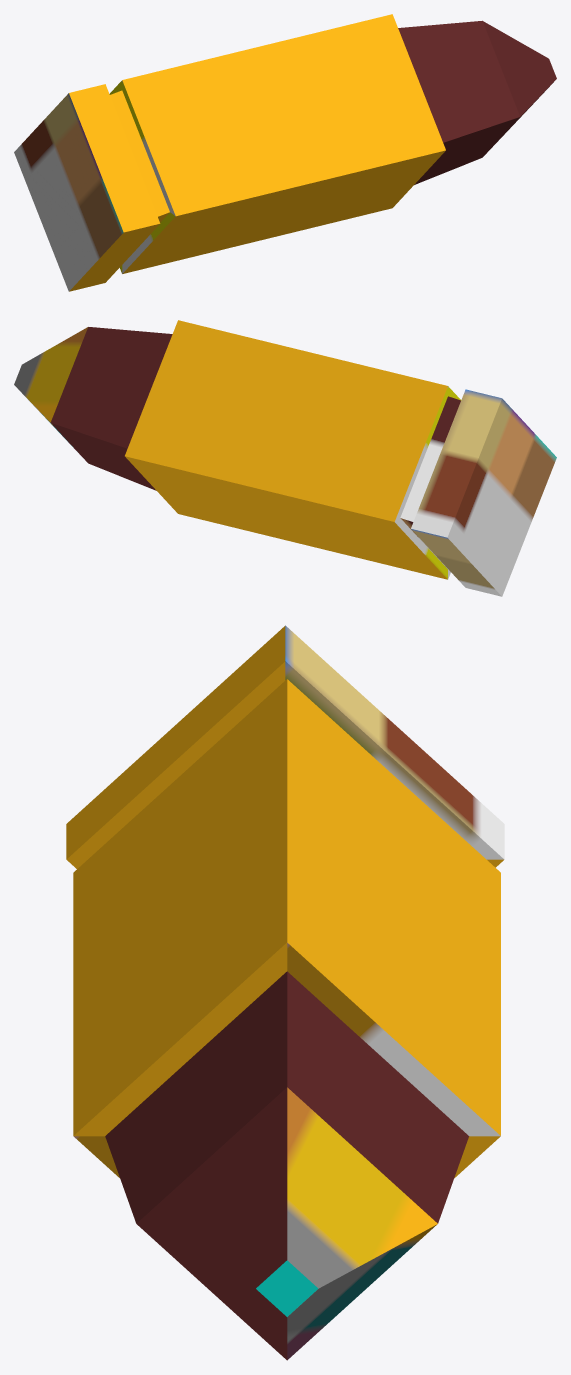
The model's file is bullet.glb.
3 views of the same model, one above another, from view 1: azimuth 30°, elevation 25°; view 2: azimuth 150°, elevation 25°; view 3: azimuth 270°, elevation 25° (orthographic). The views are drawn at different scales.
Parts seen in each view (by area): view 1: bullet-9mm; view 2: bullet-9mm; view 3: bullet-9mm.
Boxes of the visible parts, x1,y1,x2,y2 form: bullet-9mm: (14, 14, 556, 291); bullet-9mm: (14, 320, 556, 596); bullet-9mm: (66, 625, 504, 1360).
Size of the model in its own units: 0.0239 by 0.00943 by 0.00943.
Materials: 1 (1 with a texture image).
